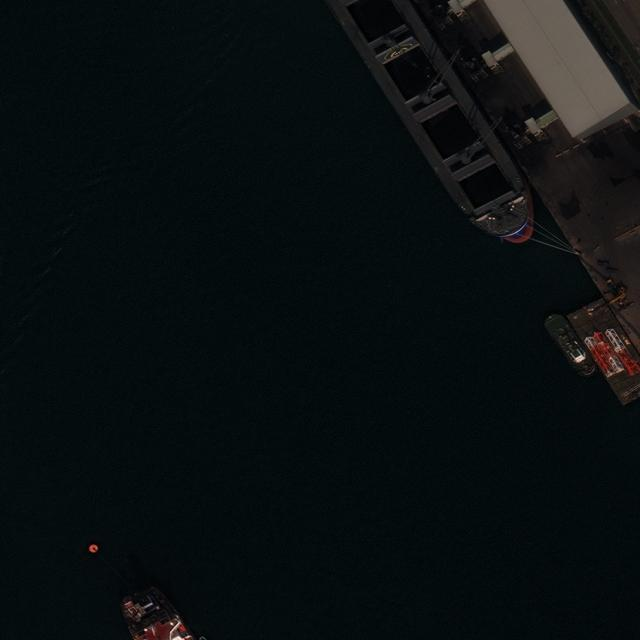Container Ship: (328, 4, 537, 249)
Oil Tanker: (115, 586, 197, 640)
Other Ship: (541, 310, 599, 381)
